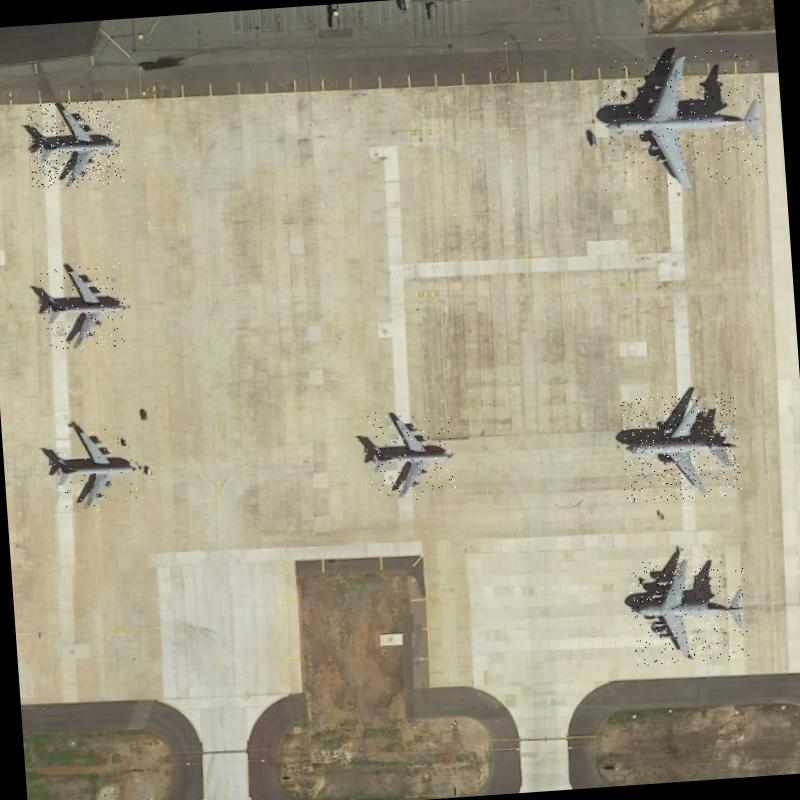A14: (26, 98, 125, 190), (363, 406, 456, 503), (49, 422, 141, 514), (39, 262, 130, 353)
A18: (618, 391, 742, 502)
A3: (627, 552, 751, 666)
A4: (596, 47, 766, 194)
